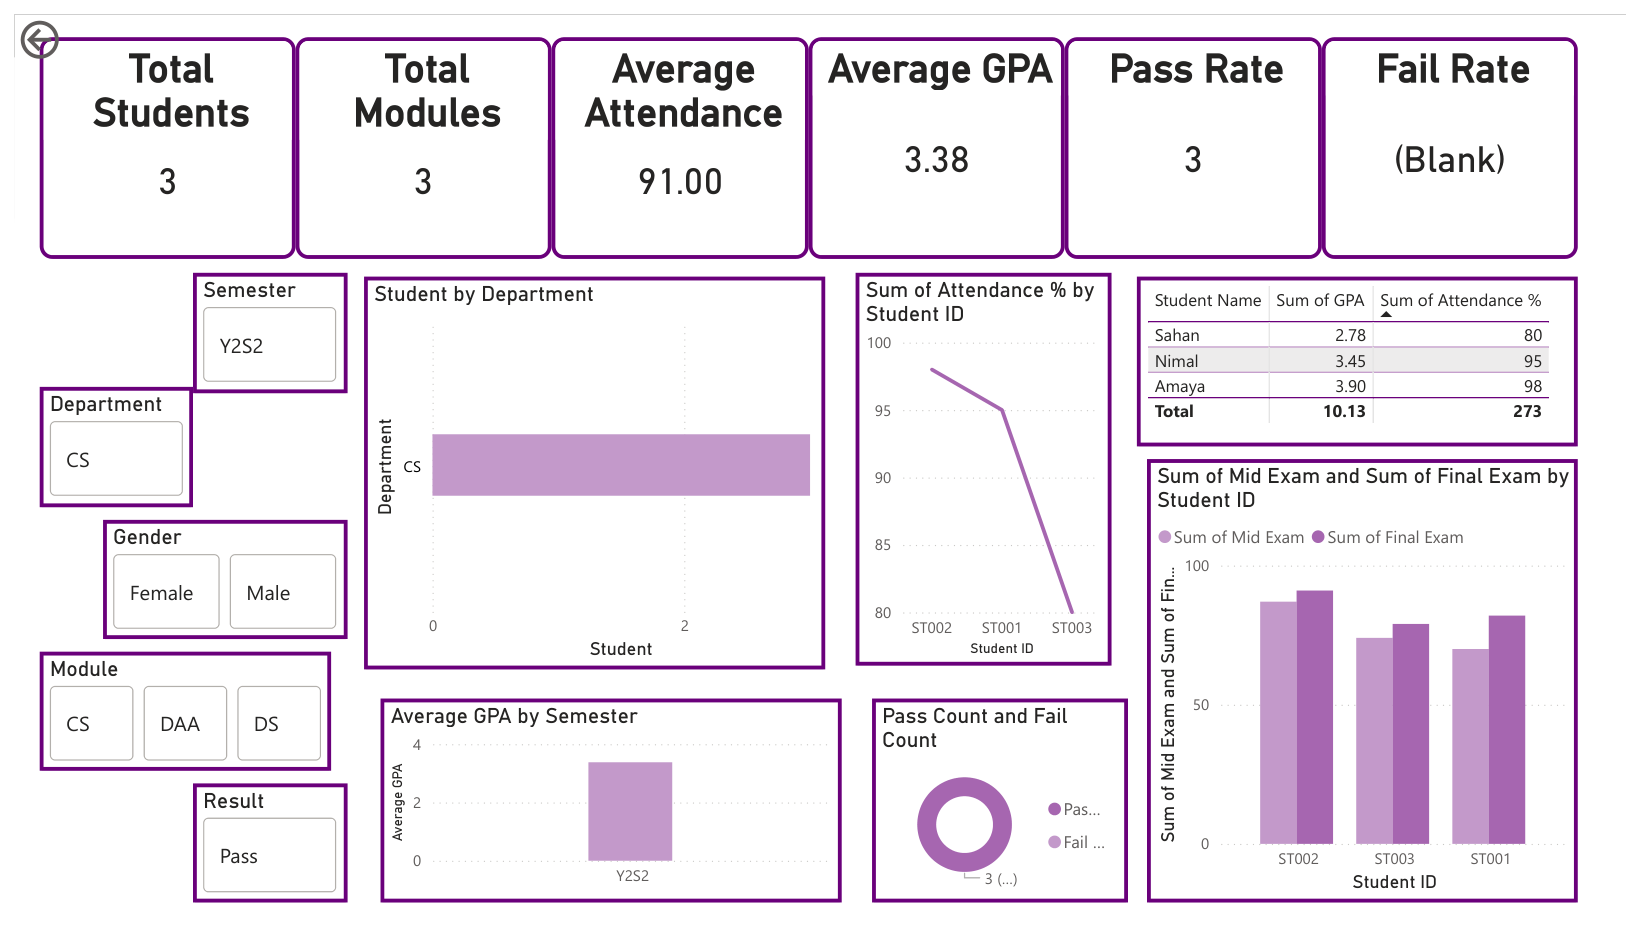

This screenshot's page, from the dashboard's own definition file:
{"tool":"powerbi","page":{"name":"Page 1","canvas":[1280,720],"ordinal":0},"visuals":[{"type":"card","title":"Total Students","fields":{"Values":["Student_Data.Total Students"]},"box":[19.6,18,202.4,174.7],"z":0},{"type":"card","title":"Total Modules","fields":{"Values":["Student_Data.Total Modules"]},"box":[222,18,202.4,174.7],"z":1000},{"type":"card","title":"Average Attendance","fields":{"Values":["Student_Data.Average Attendance"]},"box":[424.5,18,202.4,174.7],"z":2000},{"type":"card","title":"Average GPA","fields":{"Values":["Student_Data.Average GPA"]},"box":[626.9,18,202.4,174.7],"z":3000},{"type":"card","title":"Fail Rate","fields":{"Values":["Student_Data.Fail Count"]},"box":[1031.8,18,202.4,174.7],"z":4000},{"type":"card","title":"Pass Rate","fields":{"Values":["Student_Data.Pass Count"]},"box":[829.4,18,202.4,174.7],"z":5000},{"type":"clusteredBarChart","fields":{"Category":["Student_Data.Department"],"Y":["CountNonNull(Student_Data.Student Name)"]},"box":[275.7,207.1,364.3,310],"z":6000},{"type":"clusteredColumnChart","fields":{"Y":["Student_Data.Average GPA"],"Category":["Student_Data.Semester"]},"box":[288.6,540,364.3,161.4],"z":7000},{"type":"lineChart","fields":{"Y":["Sum(Student_Data.Attendance %)"],"Category":["Student_Data.Student ID"]},"box":[664.3,204.3,201.4,310],"z":8000},{"type":"donutChart","fields":{"Y":["Student_Data.Pass Count","Student_Data.Fail Count"]},"box":[677.1,540,201.4,161.4],"z":9000},{"type":"tableEx","fields":{"Values":["Student_Data.Student Name","Sum(Student_Data.GPA)","Sum(Student_Data.Attendance %)"]},"box":[885.7,207.1,348.6,134.3],"z":9001},{"type":"actionButton","box":[0,0,100,40],"z":9002},{"type":"clusteredColumnChart","fields":{"Category":["Student_Data.Student ID"],"Y":["Sum(Student_Data.Mid Exam)","Sum(Student_Data.Final Exam)"]},"box":[894.3,351.4,340,350],"z":9003},{"type":"advancedSlicerVisual","fields":{"Values":["Student_Data.Semester"]},"box":[141.4,204.3,121.4,94.3],"z":9004},{"type":"advancedSlicerVisual","fields":{"Values":["Student_Data.Department"]},"box":[20,294.3,121.4,94.3],"z":9005},{"type":"advancedSlicerVisual","fields":{"Values":["Student_Data.Gender"]},"box":[70,398.6,192.9,94.3],"z":9006},{"type":"advancedSlicerVisual","fields":{"Values":["Student_Data.Module"]},"box":[20,502.9,230,94.3],"z":9007},{"type":"advancedSlicerVisual","fields":{"Values":["Student_Data.Result"]},"box":[141.4,607.1,121.4,94.3],"z":9008}]}

Visuals, with their boxes in screenshot pixels (x1, y1, x2, y2), scaled from the page's 1280x720 canvas onto the 1626x928 screenshot:
"Total Students" card: 25 23 282 248
"Total Modules" card: 282 23 539 248
"Average Attendance" card: 539 23 796 248
"Average GPA" card: 796 23 1053 248
"Fail Rate" card: 1311 23 1568 248
"Pass Rate" card: 1054 23 1311 248
clusteredBarChart - Student_Data.Department x CountNonNull(Student_Data.Student Name): 350 267 813 666
clusteredColumnChart - Student_Data.Average GPA x Student_Data.Semester: 367 696 829 904
lineChart - Sum(Student_Data.Attendance %) x Student_Data.Student ID: 844 263 1100 663
donutChart - Student_Data.Pass Count x Student_Data.Fail Count: 860 696 1116 904
tableEx - Student_Data.Student Name x Sum(Student_Data.GPA): 1125 267 1568 440
actionButton: 0 0 127 52
clusteredColumnChart - Student_Data.Student ID x Sum(Student_Data.Mid Exam): 1136 453 1568 904
advancedSlicerVisual - Student_Data.Semester: 180 263 334 385
advancedSlicerVisual - Student_Data.Department: 25 379 180 501
advancedSlicerVisual - Student_Data.Gender: 89 514 334 635
advancedSlicerVisual - Student_Data.Module: 25 648 318 770
advancedSlicerVisual - Student_Data.Result: 180 782 334 904
